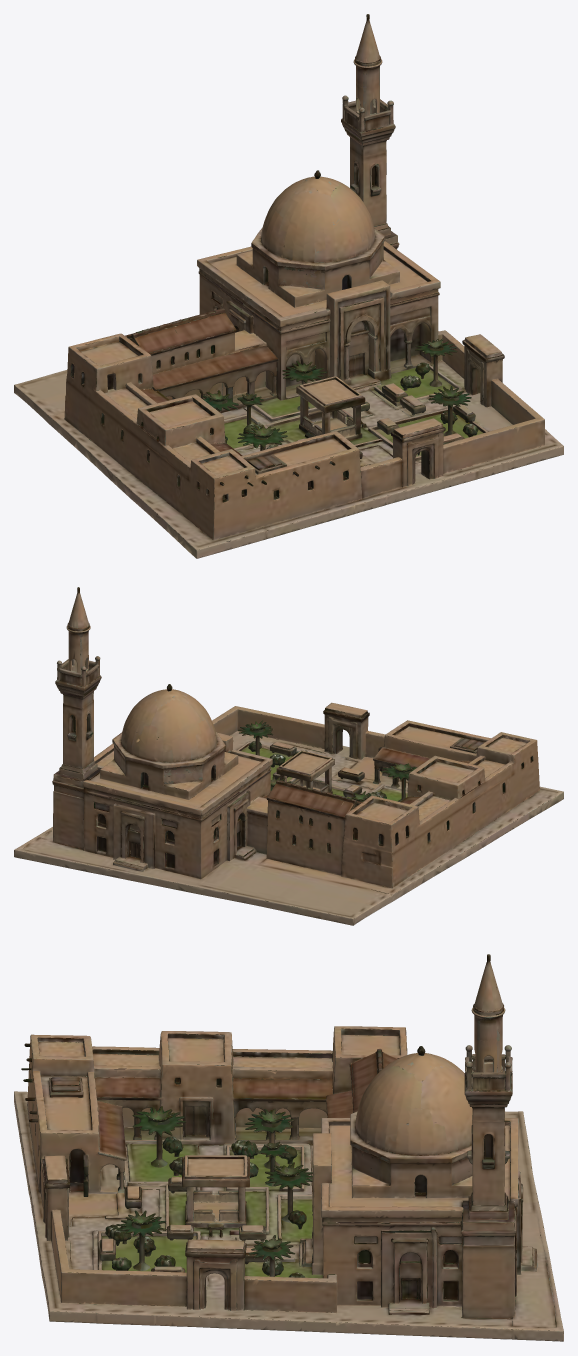
File: mosque.glb
The picture shows the model from 3 angles, top to bottom: view 1: azimuth 30°, elevation 25°; view 2: azimuth 150°, elevation 25°; view 3: azimuth 270°, elevation 25°; orthographic projection. The views are drawn at different scales.
Visible parts, largest first — view 1: tripo_node_0aadf9fe-a7b5-4779-8347-c8a31dc50010; view 2: tripo_node_0aadf9fe-a7b5-4779-8347-c8a31dc50010; view 3: tripo_node_0aadf9fe-a7b5-4779-8347-c8a31dc50010.
Part boxes in pixels (<box>): tripo_node_0aadf9fe-a7b5-4779-8347-c8a31dc50010: <box>14,14,563,558</box>; tripo_node_0aadf9fe-a7b5-4779-8347-c8a31dc50010: <box>14,587,563,925</box>; tripo_node_0aadf9fe-a7b5-4779-8347-c8a31dc50010: <box>14,954,563,1341</box>.
Size of the model in its own units: 1 by 0.7026 by 0.9681.
1 material, 1 textured.
